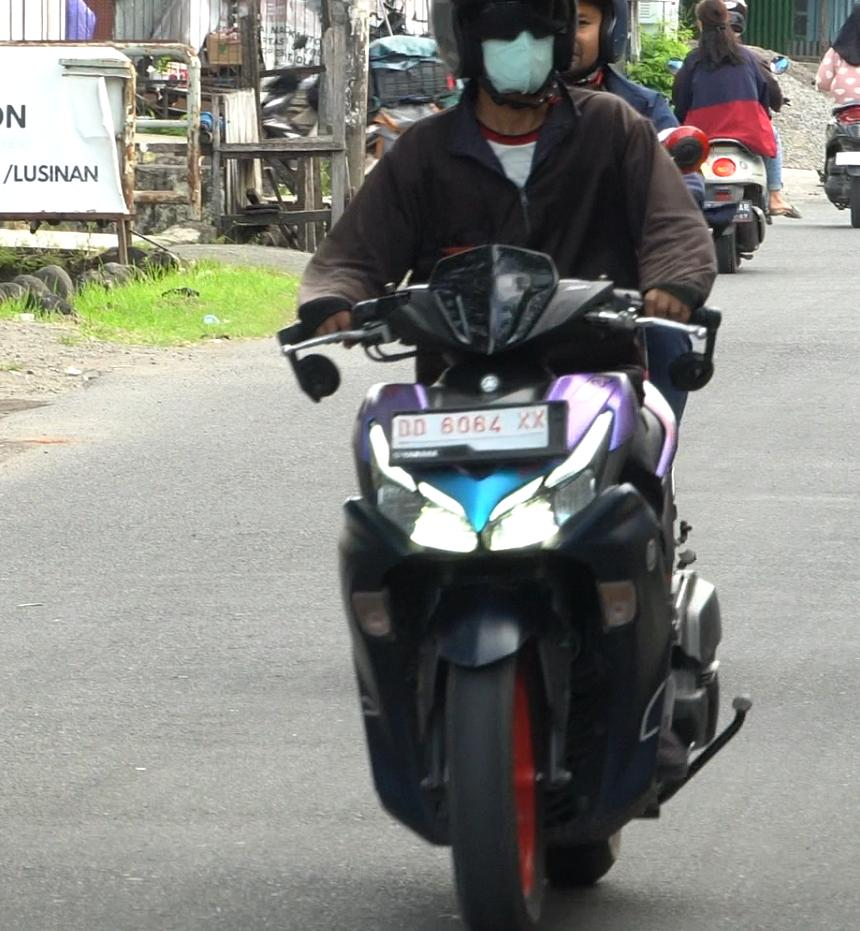number-plate: (386, 405, 579, 459)
